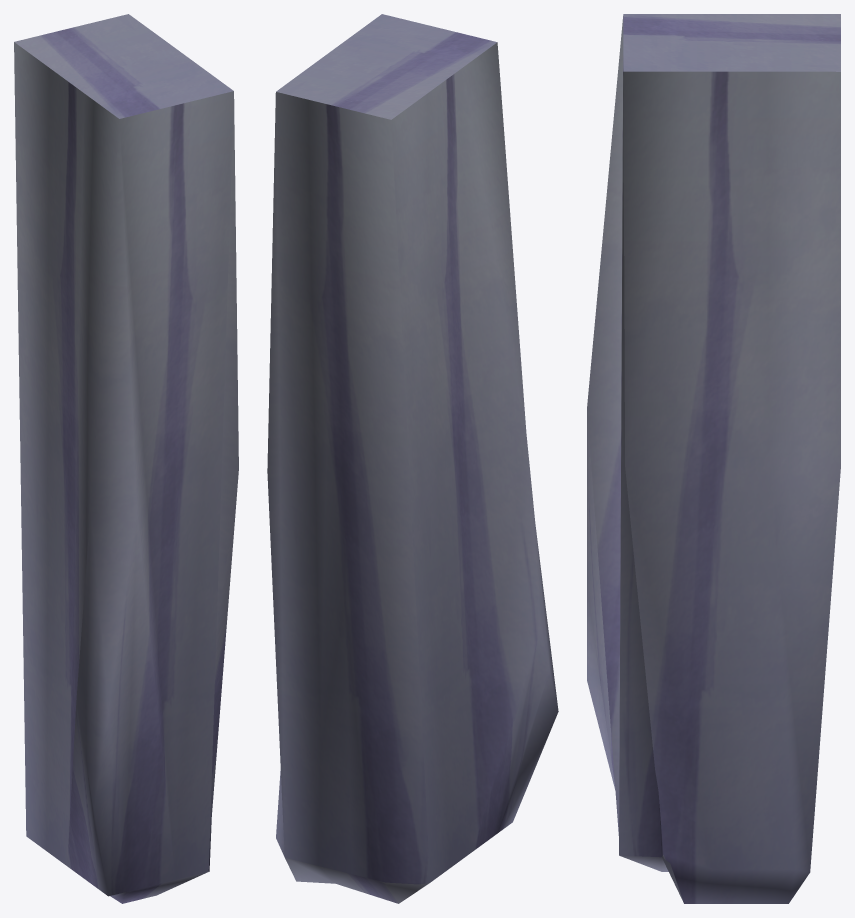
Rendered from rockeroo_small_bald_snatched_in_a_mini_evil.glb.
3 renders of one model, left to right at view 1: azimuth 30°, elevation 25°; view 2: azimuth 150°, elevation 25°; view 3: azimuth 270°, elevation 25°, orthographic. The views are drawn at different scales.
Parts seen in each view (by area): view 1: rockeroo_small_bald_snatched_in_a_mini.001; view 2: rockeroo_small_bald_snatched_in_a_mini.001; view 3: rockeroo_small_bald_snatched_in_a_mini.001.
Part boxes in pixels (x1,y1,x2,y2): rockeroo_small_bald_snatched_in_a_mini.001: (14, 14, 238, 903); rockeroo_small_bald_snatched_in_a_mini.001: (267, 14, 558, 903); rockeroo_small_bald_snatched_in_a_mini.001: (587, 14, 840, 903).
Bounding box in the file's own units: 2.13 × 9.22 × 2.53.
Materials: 1 (1 with a texture image).
